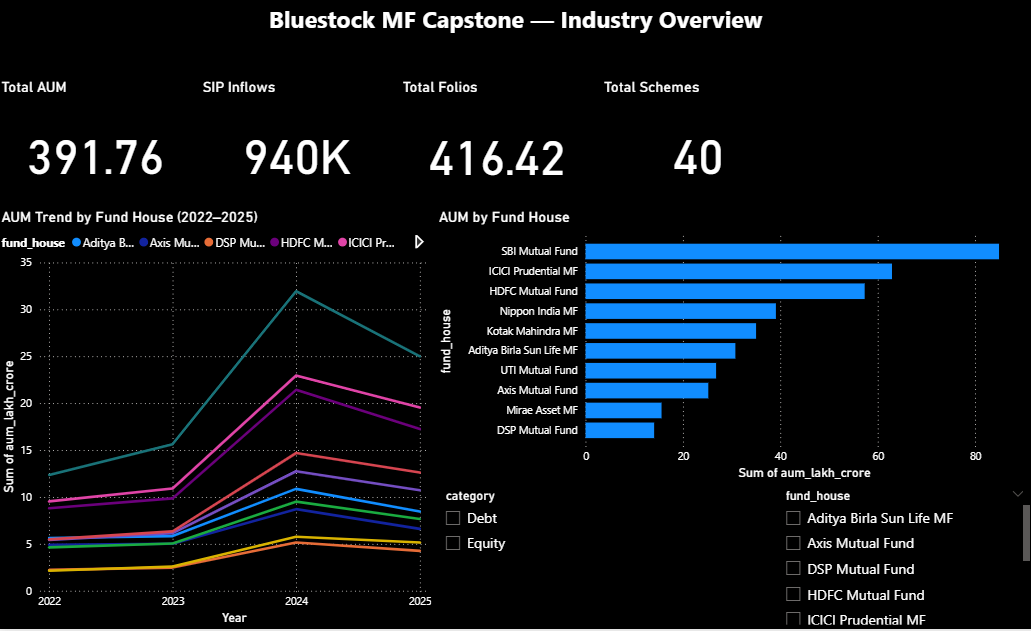

The page's visual inventory and layout, read from the dashboard file:
{"tool":"powerbi","page":{"name":"Industry Review","canvas":[1280,720],"ordinal":0},"visuals":[{"type":"card","title":"Total AUM","fields":{"Values":["Sum(03_aum_by_fund_house.aum_lakh_crore)"]},"box":[0,90,225.7,148.6],"z":0},{"type":"card","title":"SIP Inflows","fields":{"Values":["Sum(04_monthly_sip_inflows.sip_inflow_crore)"]},"box":[229.5,90,225.7,148.6],"z":1000},{"type":"card","title":"Total Folios","fields":{"Values":["Sum(06_industry_folio_count.total_folios_crore)"]},"box":[459,90,225.7,151.4],"z":2000},{"type":"card","title":"Total Schemes","fields":{"Values":["CountNonNull(01_fund_master.amfi_code)"]},"box":[688.6,90,225.7,148.6],"z":3000},{"type":"lineChart","title":"AUM Trend by Fund House (2022–2025)","fields":{"Category":["03_aum_by_fund_house.date.Variation.Date Hierarchy.Year","03_aum_by_fund_house.date.Variation.Date Hierarchy.Quarter","03_aum_by_fund_house.date.Variation.Date Hierarchy.Month","03_aum_by_fund_house.date.Variation.Date Hierarchy.Day"],"Y":["Sum(03_aum_by_fund_house.aum_lakh_crore)"],"Series":["03_aum_by_fund_house.fund_house"]},"box":[0,238.6,501.4,481.4],"z":4000},{"type":"clusteredBarChart","title":"AUM by Fund House","fields":{"Category":["03_aum_by_fund_house.fund_house"],"Y":["Sum(03_aum_by_fund_house.aum_lakh_crore)"]},"box":[500,238.6,685.7,315.7],"z":5000},{"type":"slicer","fields":{"Values":["01_fund_master.category"]},"box":[500,554.3,354.3,165.7],"z":6000},{"type":"slicer","fields":{"Values":["01_fund_master.fund_house"]},"box":[888.6,554.3,297.1,165.7],"z":7000},{"type":"textbox","box":[0,0,1185.7,52.9],"z":8000}]}

Visuals, with their boxes on the page's 1280x720 design canvas (x1, y1, x2, y2). These are canvas units, not pixel positions in the 1031x631 screenshot, which may show the page scaled, cropped or inside an application window:
"Total AUM" card: detection(0, 90, 226, 239)
"SIP Inflows" card: detection(230, 90, 455, 239)
"Total Folios" card: detection(459, 90, 685, 241)
"Total Schemes" card: detection(689, 90, 914, 239)
"AUM Trend by Fund House (2022–2025)" lineChart: detection(0, 239, 501, 720)
"AUM by Fund House" clusteredBarChart: detection(500, 239, 1186, 554)
slicer - 01_fund_master.category: detection(500, 554, 854, 720)
slicer - 01_fund_master.fund_house: detection(889, 554, 1186, 720)
textbox: detection(0, 0, 1186, 53)
